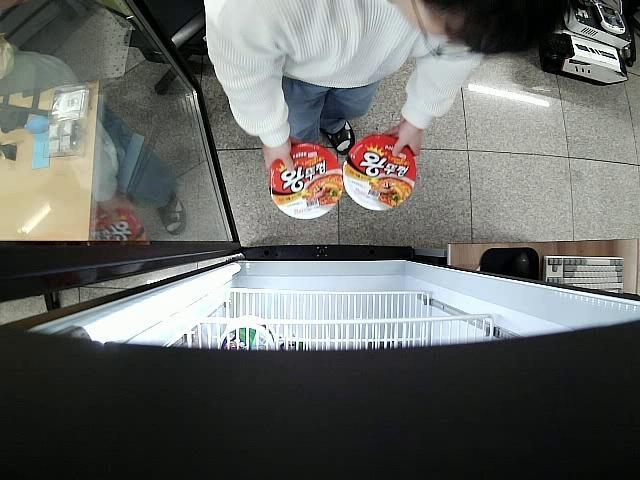10_wangTtukkeong: (344, 134, 416, 212), (270, 144, 343, 218)
